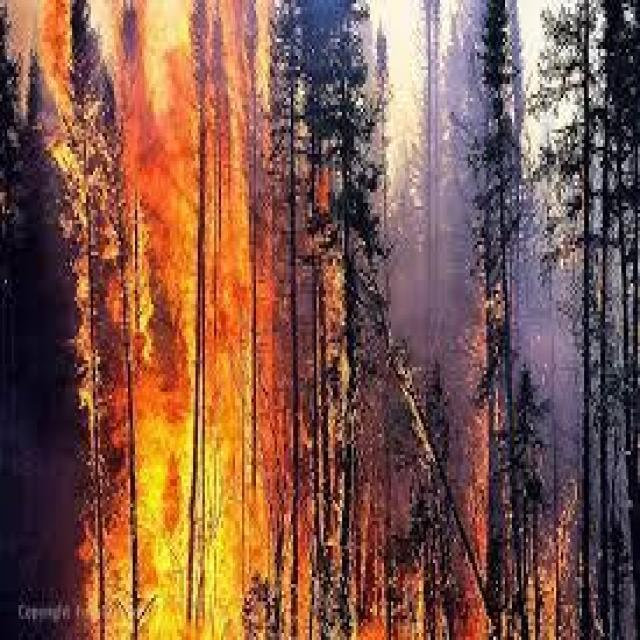Fire: (57, 65, 290, 640)
